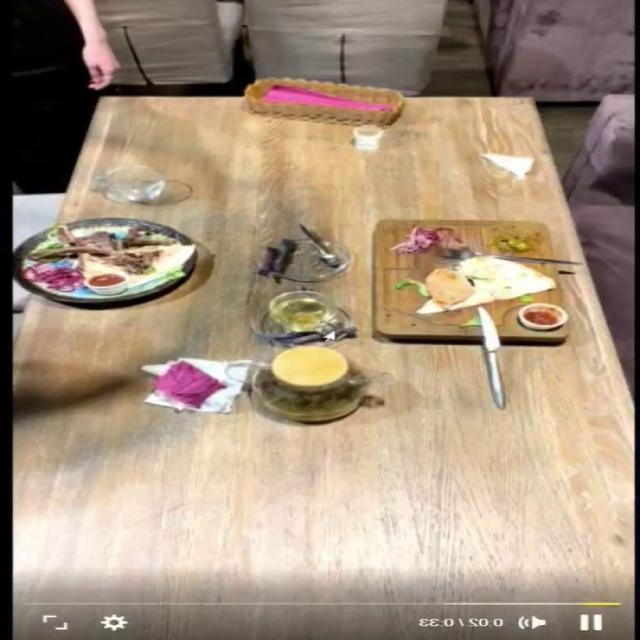meat: (372, 219, 571, 343), (18, 208, 214, 330)
tea: (254, 345, 370, 423)
